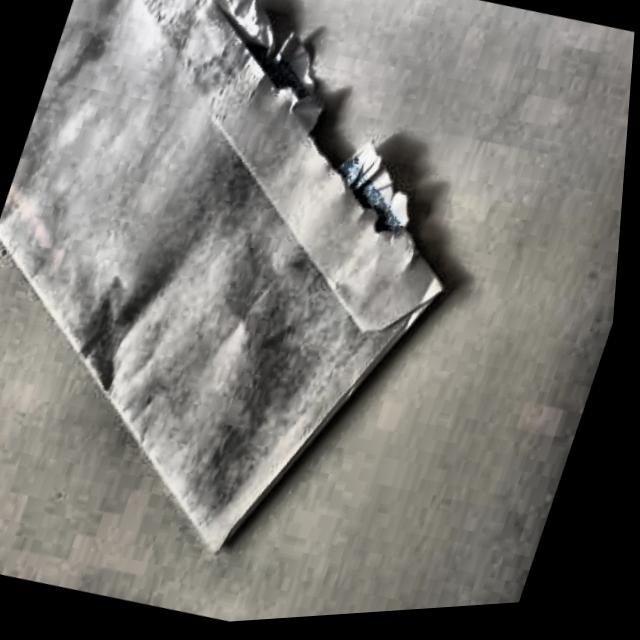Paper: (0, 0, 550, 620)
